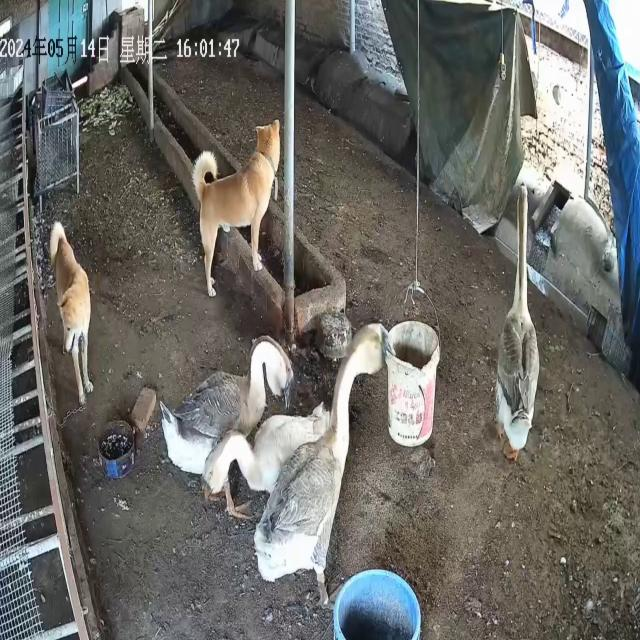dog: (192, 119, 282, 299), (50, 221, 95, 409)
